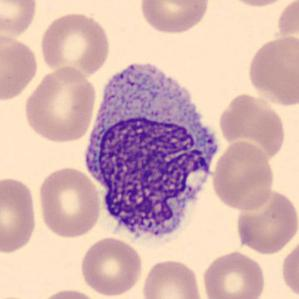Monocyte: (78, 52, 225, 249)
RBC: (22, 65, 98, 144), (37, 9, 113, 80), (217, 91, 287, 164), (36, 165, 103, 240), (210, 138, 276, 213), (233, 186, 298, 256), (78, 236, 144, 297), (245, 33, 298, 108), (200, 248, 267, 299), (0, 174, 39, 256), (0, 31, 40, 104), (140, 257, 206, 299), (138, 0, 212, 36), (0, 0, 39, 39), (279, 234, 299, 299), (36, 286, 104, 299), (220, 0, 294, 8)
